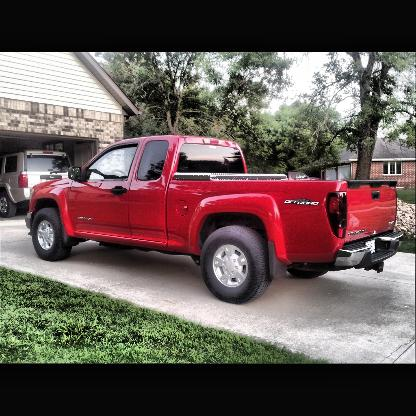GMC Canyon Extended Cab 2012: (26, 136, 405, 304)
